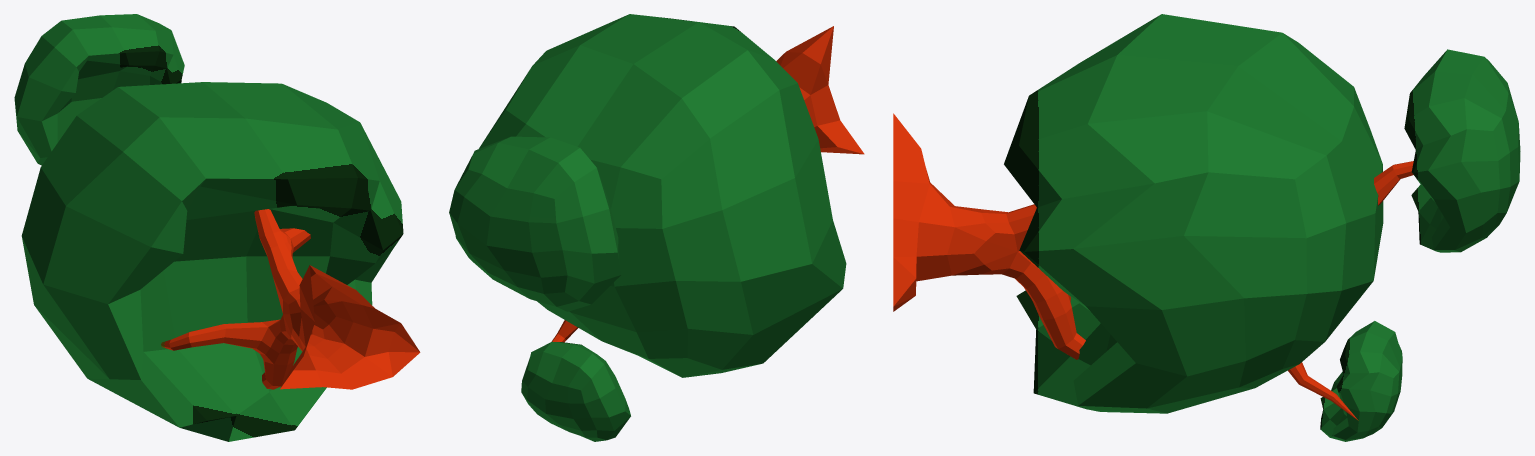
Rendered from tree.glb.
3 views of the same model, side by side, from view 1: azimuth 30°, elevation 25°; view 2: azimuth 150°, elevation 25°; view 3: azimuth 270°, elevation 25° (orthographic). The views are drawn at different scales.
Parts seen in each view (by area): view 1: tree; view 2: tree; view 3: tree.
Boxes of the visible parts, x1,y1,x2,y2 form: tree: [14, 14, 420, 441]; tree: [449, 14, 864, 441]; tree: [893, 14, 1520, 441].
Bounding box in the file's own units: 1.96 × 1.99 × 2.98.
1 material, 1 textured.
